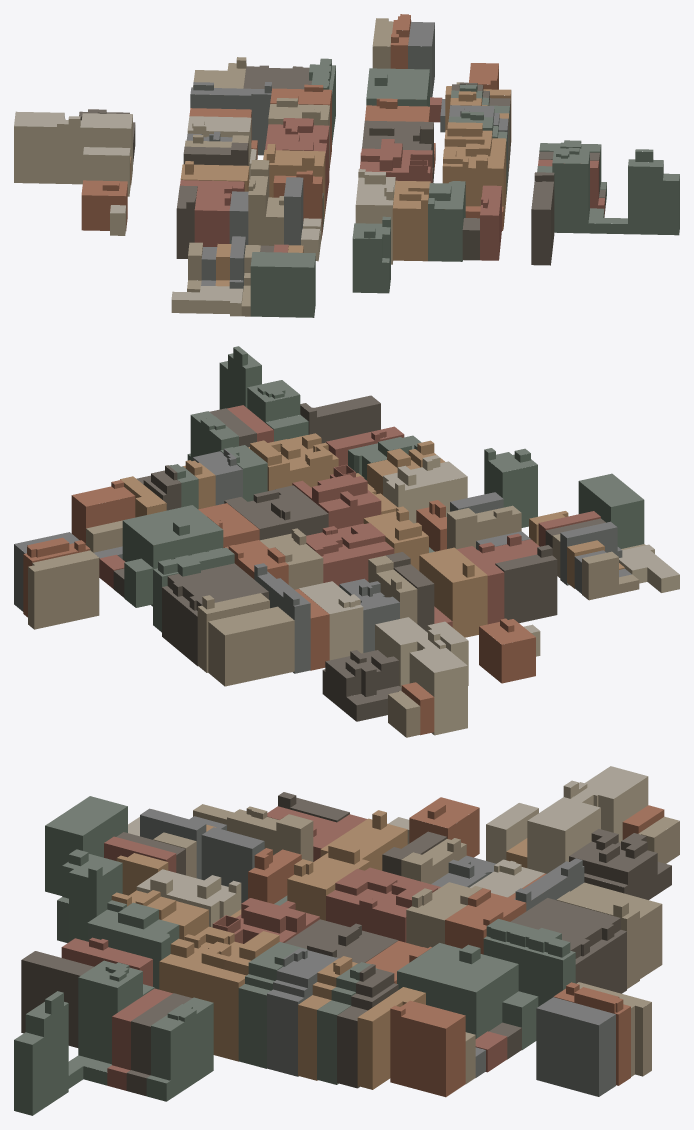
The model's file is tile--2_3.glb.
3 views of the same model, one above another, from view 1: azimuth 30°, elevation 25°; view 2: azimuth 150°, elevation 25°; view 3: azimuth 270°, elevation 25° (orthographic). The views are drawn at different scales.
Visible parts, largest first — view 1: wall, roof; view 2: wall, roof; view 3: wall, roof.
Part boxes in pixels (x1,y1,x2,y2): wall: (14,16,679,317); roof: (14,14,679,306); wall: (14,348,679,737); roof: (14,346,679,709); wall: (14,776,679,1115); roof: (14,766,679,1083).
Size of the model in its own units: 229 by 40.7 by 217.
